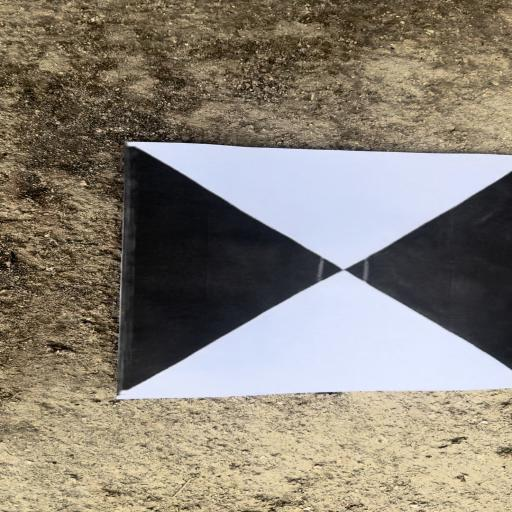target: (117, 144, 510, 397)
